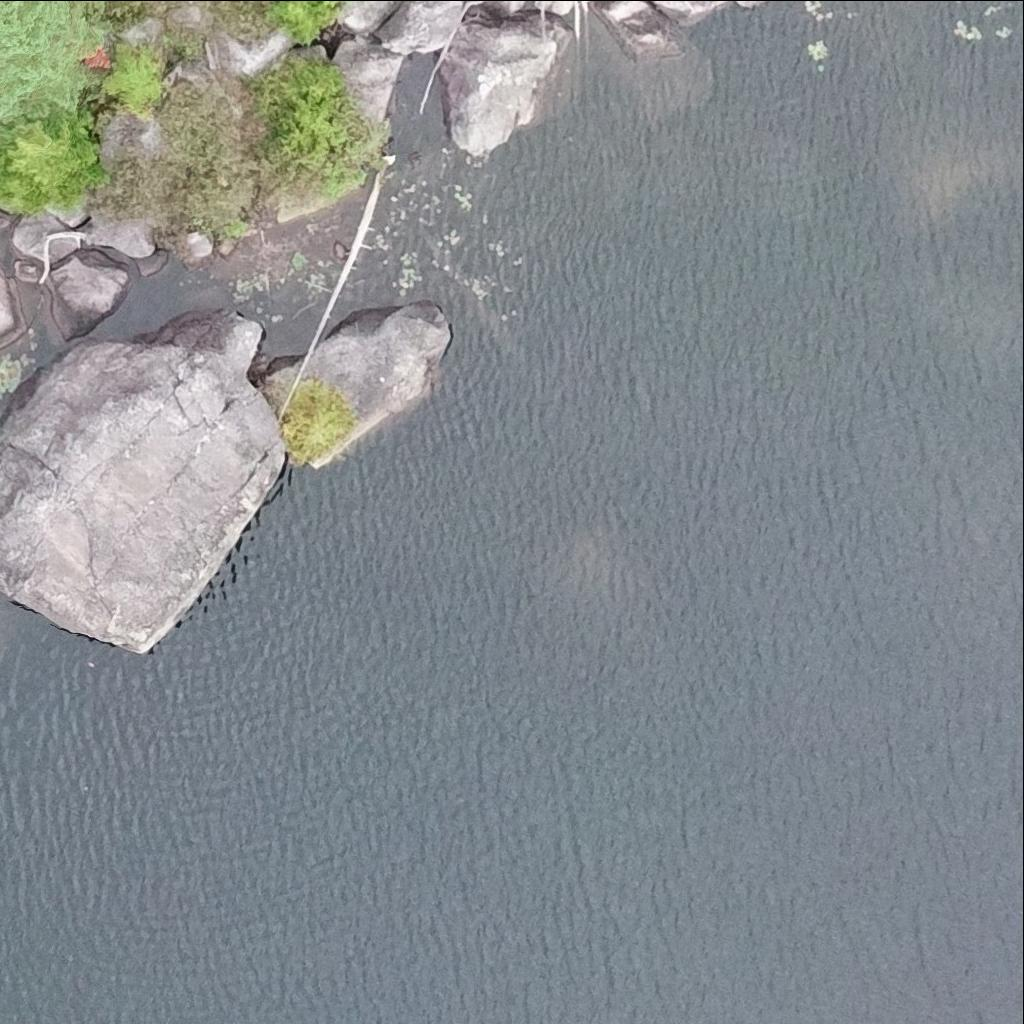crown: (0, 0, 110, 126), (0, 111, 103, 213), (102, 43, 163, 111), (269, 0, 339, 44)
